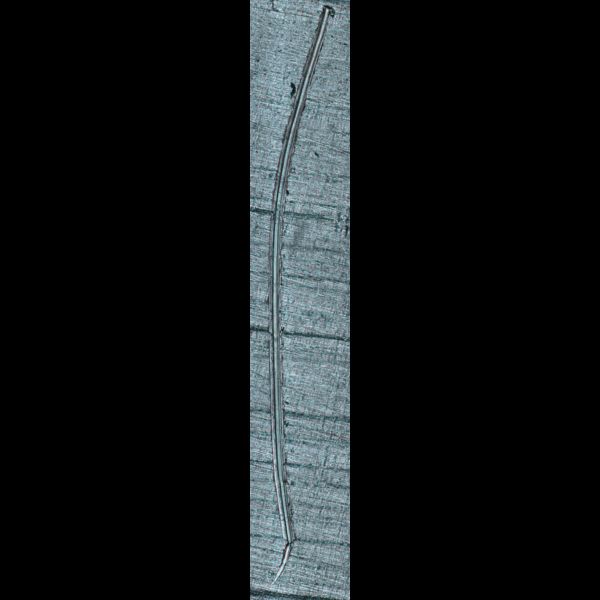d: (264, 3, 339, 588)
